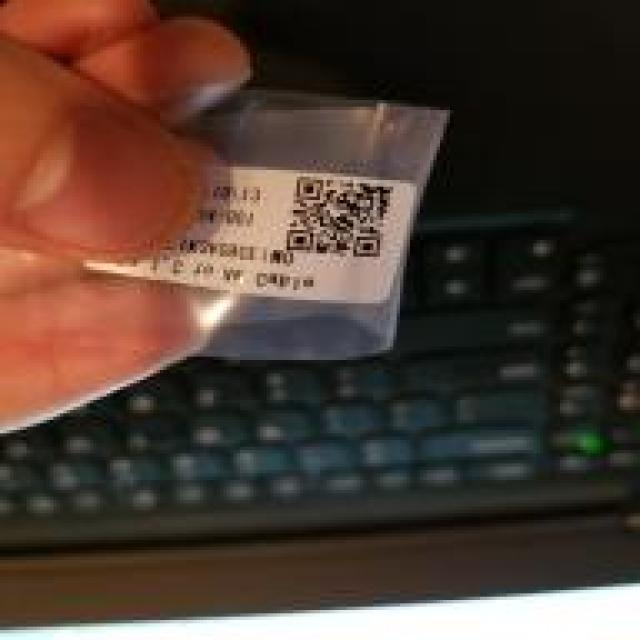QR_CODE: (280, 167, 410, 270)
